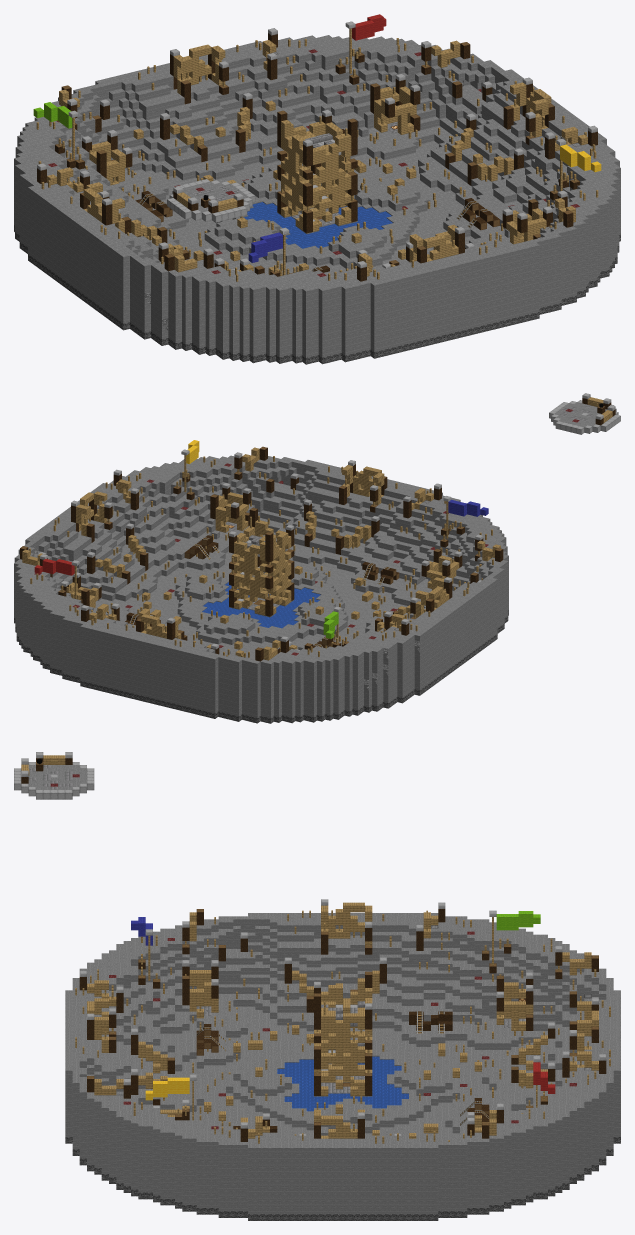
File: minecraft.obj
3 views of the same model, one above another, from view 1: azimuth 30°, elevation 25°; view 2: azimuth 150°, elevation 25°; view 3: azimuth 270°, elevation 25° (orthographic). The views are drawn at different scales.
Bounding box in the file's own units: 830 × 325 × 830.
